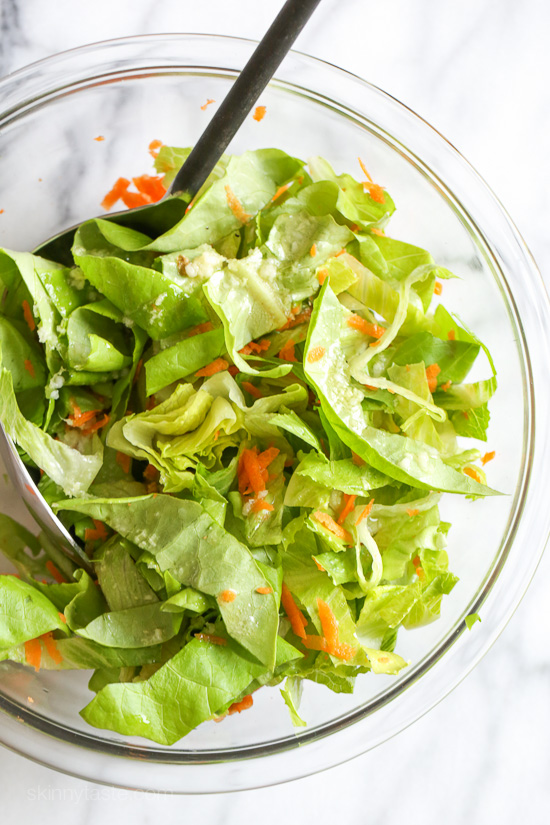chopped lettuce: (1, 214, 469, 706)
